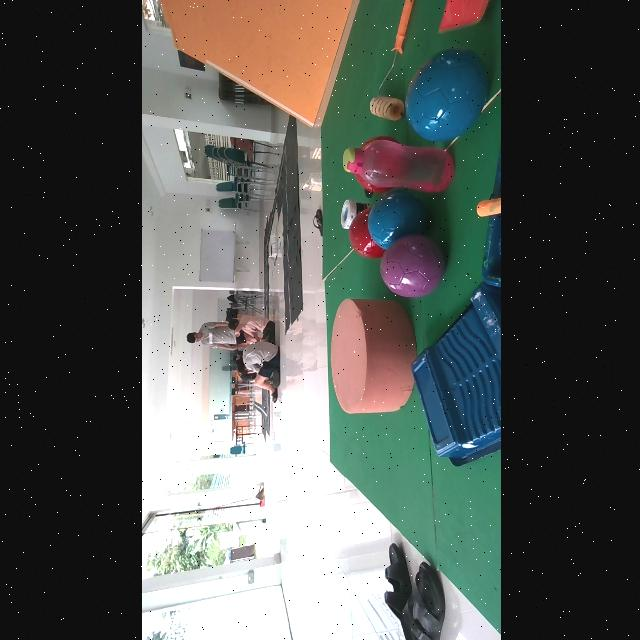B: (404, 48, 487, 142), (366, 190, 426, 250)
P: (378, 234, 444, 298)
R: (346, 209, 383, 259)
